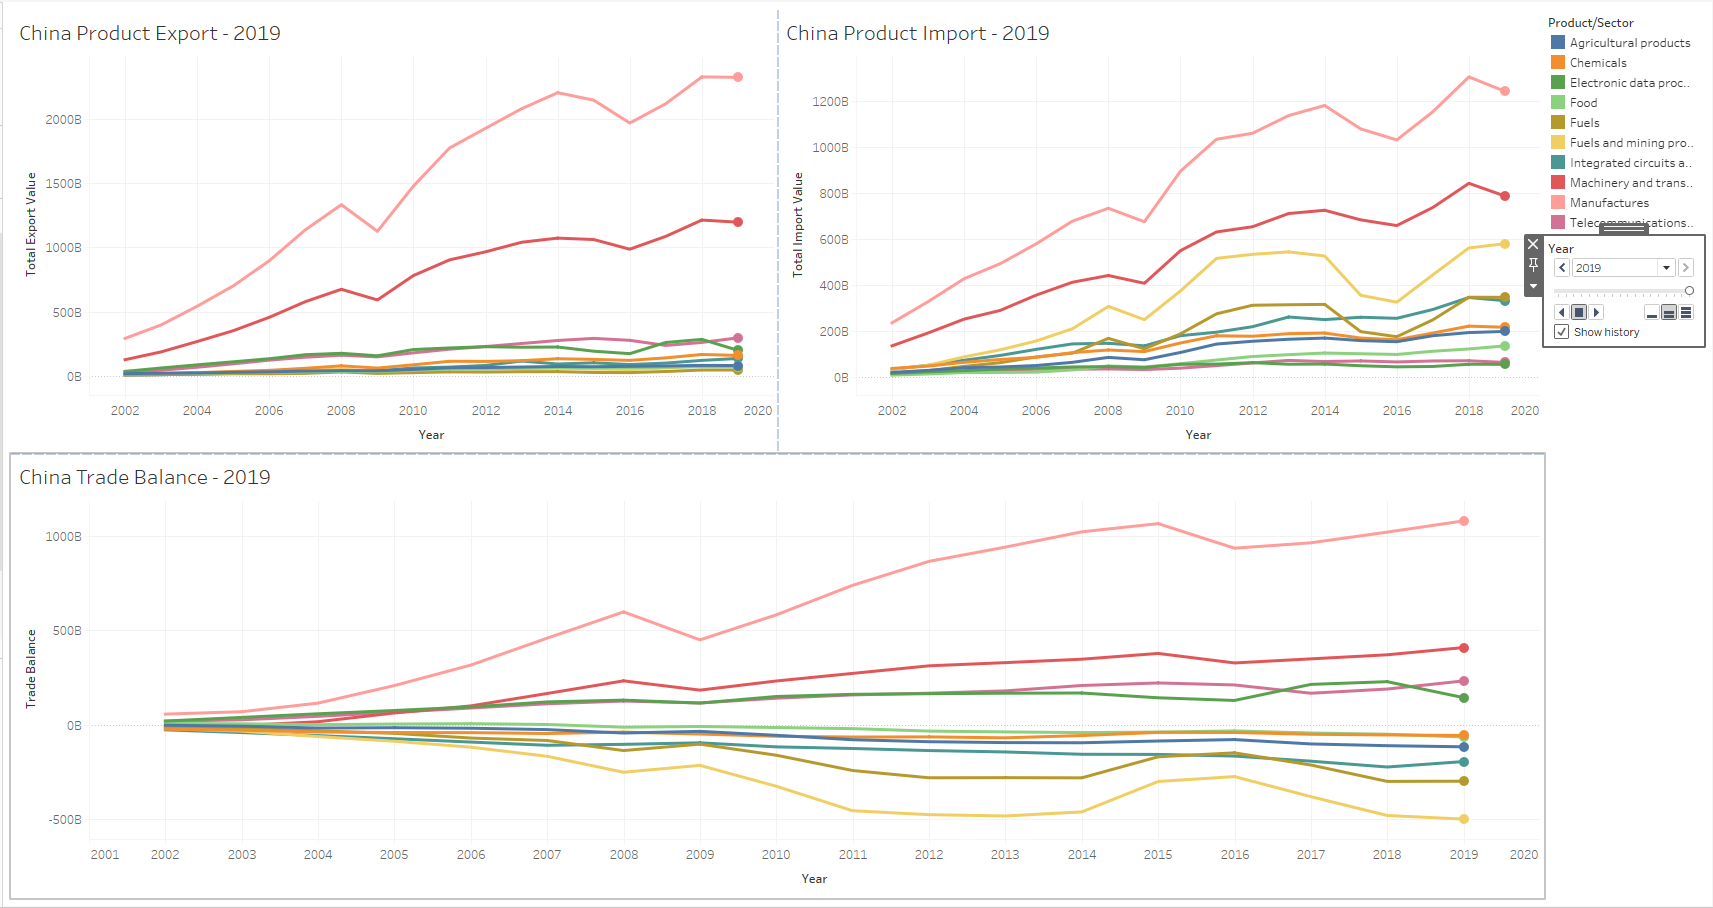

What the dashboard file says about the page in this screenshot:
{"tool":"tableau","page":{"name":"China 2","canvas":[1000,1000],"units":"permille","ordinal":1},"visuals":[{"type":"worksheet","title":"China Product Export","mark":"Circle","rows":["Calculation_2467972637101780994"],"cols":["Year"],"box":[4.8,9.3,446.9,490.7]},{"type":"worksheet","title":"China Product Import","mark":"Circle","rows":["Calculation_2467972637101895683"],"cols":["Year"],"box":[451.7,9.3,446.9,490.7]},{"type":"legend","title":"China Trade Balance","param":"[federated.16qiiab0iv4jat1cmajtp0xlhkpr].[none:Product/Sector:nk]","box":[898.6,9.3,96.6,278.7]},{"type":"currpage","title":"China Trade Balance","box":[898.6,288,96.6,138.2]},{"type":"worksheet","title":"China Trade Balance","mark":"Circle","rows":["Calculation_2467972637102080004"],"cols":["Year"],"box":[4.8,500,893.8,490.7]}]}

Visuals, with their boxes on the dashboard's canvas, which has no fixed pixel size, in thousandths of its width and height (x1, y1, x2, y2). These are canvas units, not pixel positions in the 1713x908 screenshot, which may show the page scaled, cropped or inside an application window:
"China Product Export" worksheet (Circle marks): x1=5, y1=9, x2=452, y2=500
"China Product Import" worksheet (Circle marks): x1=452, y1=9, x2=899, y2=500
"China Trade Balance" legend: x1=899, y1=9, x2=995, y2=288
"China Trade Balance" currpage: x1=899, y1=288, x2=995, y2=426
"China Trade Balance" worksheet (Circle marks): x1=5, y1=500, x2=899, y2=991
